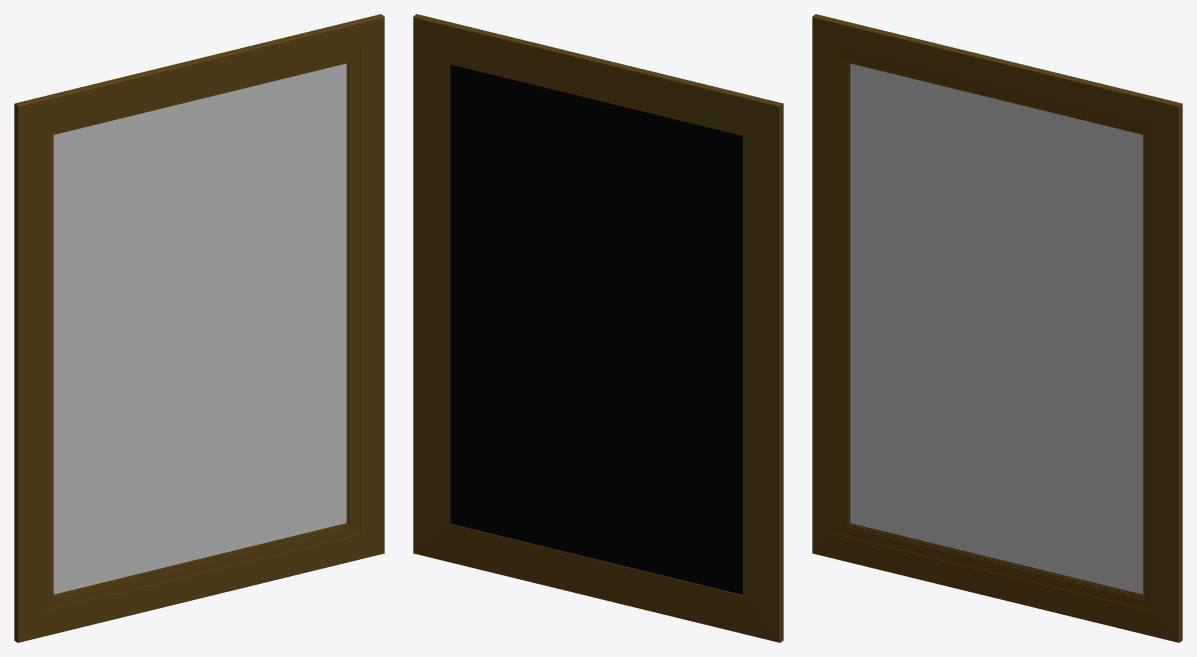
The model's file is rectangularMirror.obj.
3 views of the same model, side by side, from view 1: azimuth 30°, elevation 25°; view 2: azimuth 150°, elevation 25°; view 3: azimuth 330°, elevation 25° (orthographic).
Parts seen in each view (by area): view 1: sweethome3d_window_mirror, Cadre; view 2: Fond, Cadre; view 3: sweethome3d_window_mirror, Cadre.
Part boxes in pixels (box(x1,y1,x2,y2)): sweethome3d_window_mirror: box(53, 63, 346, 594); Cadre: box(14, 14, 384, 642); Fond: box(450, 64, 742, 594); Cadre: box(413, 14, 783, 642); sweethome3d_window_mirror: box(850, 63, 1143, 594); Cadre: box(812, 14, 1182, 642).
Bounding box in the file's own units: 50.08 × 70.06 × 0.9775.
